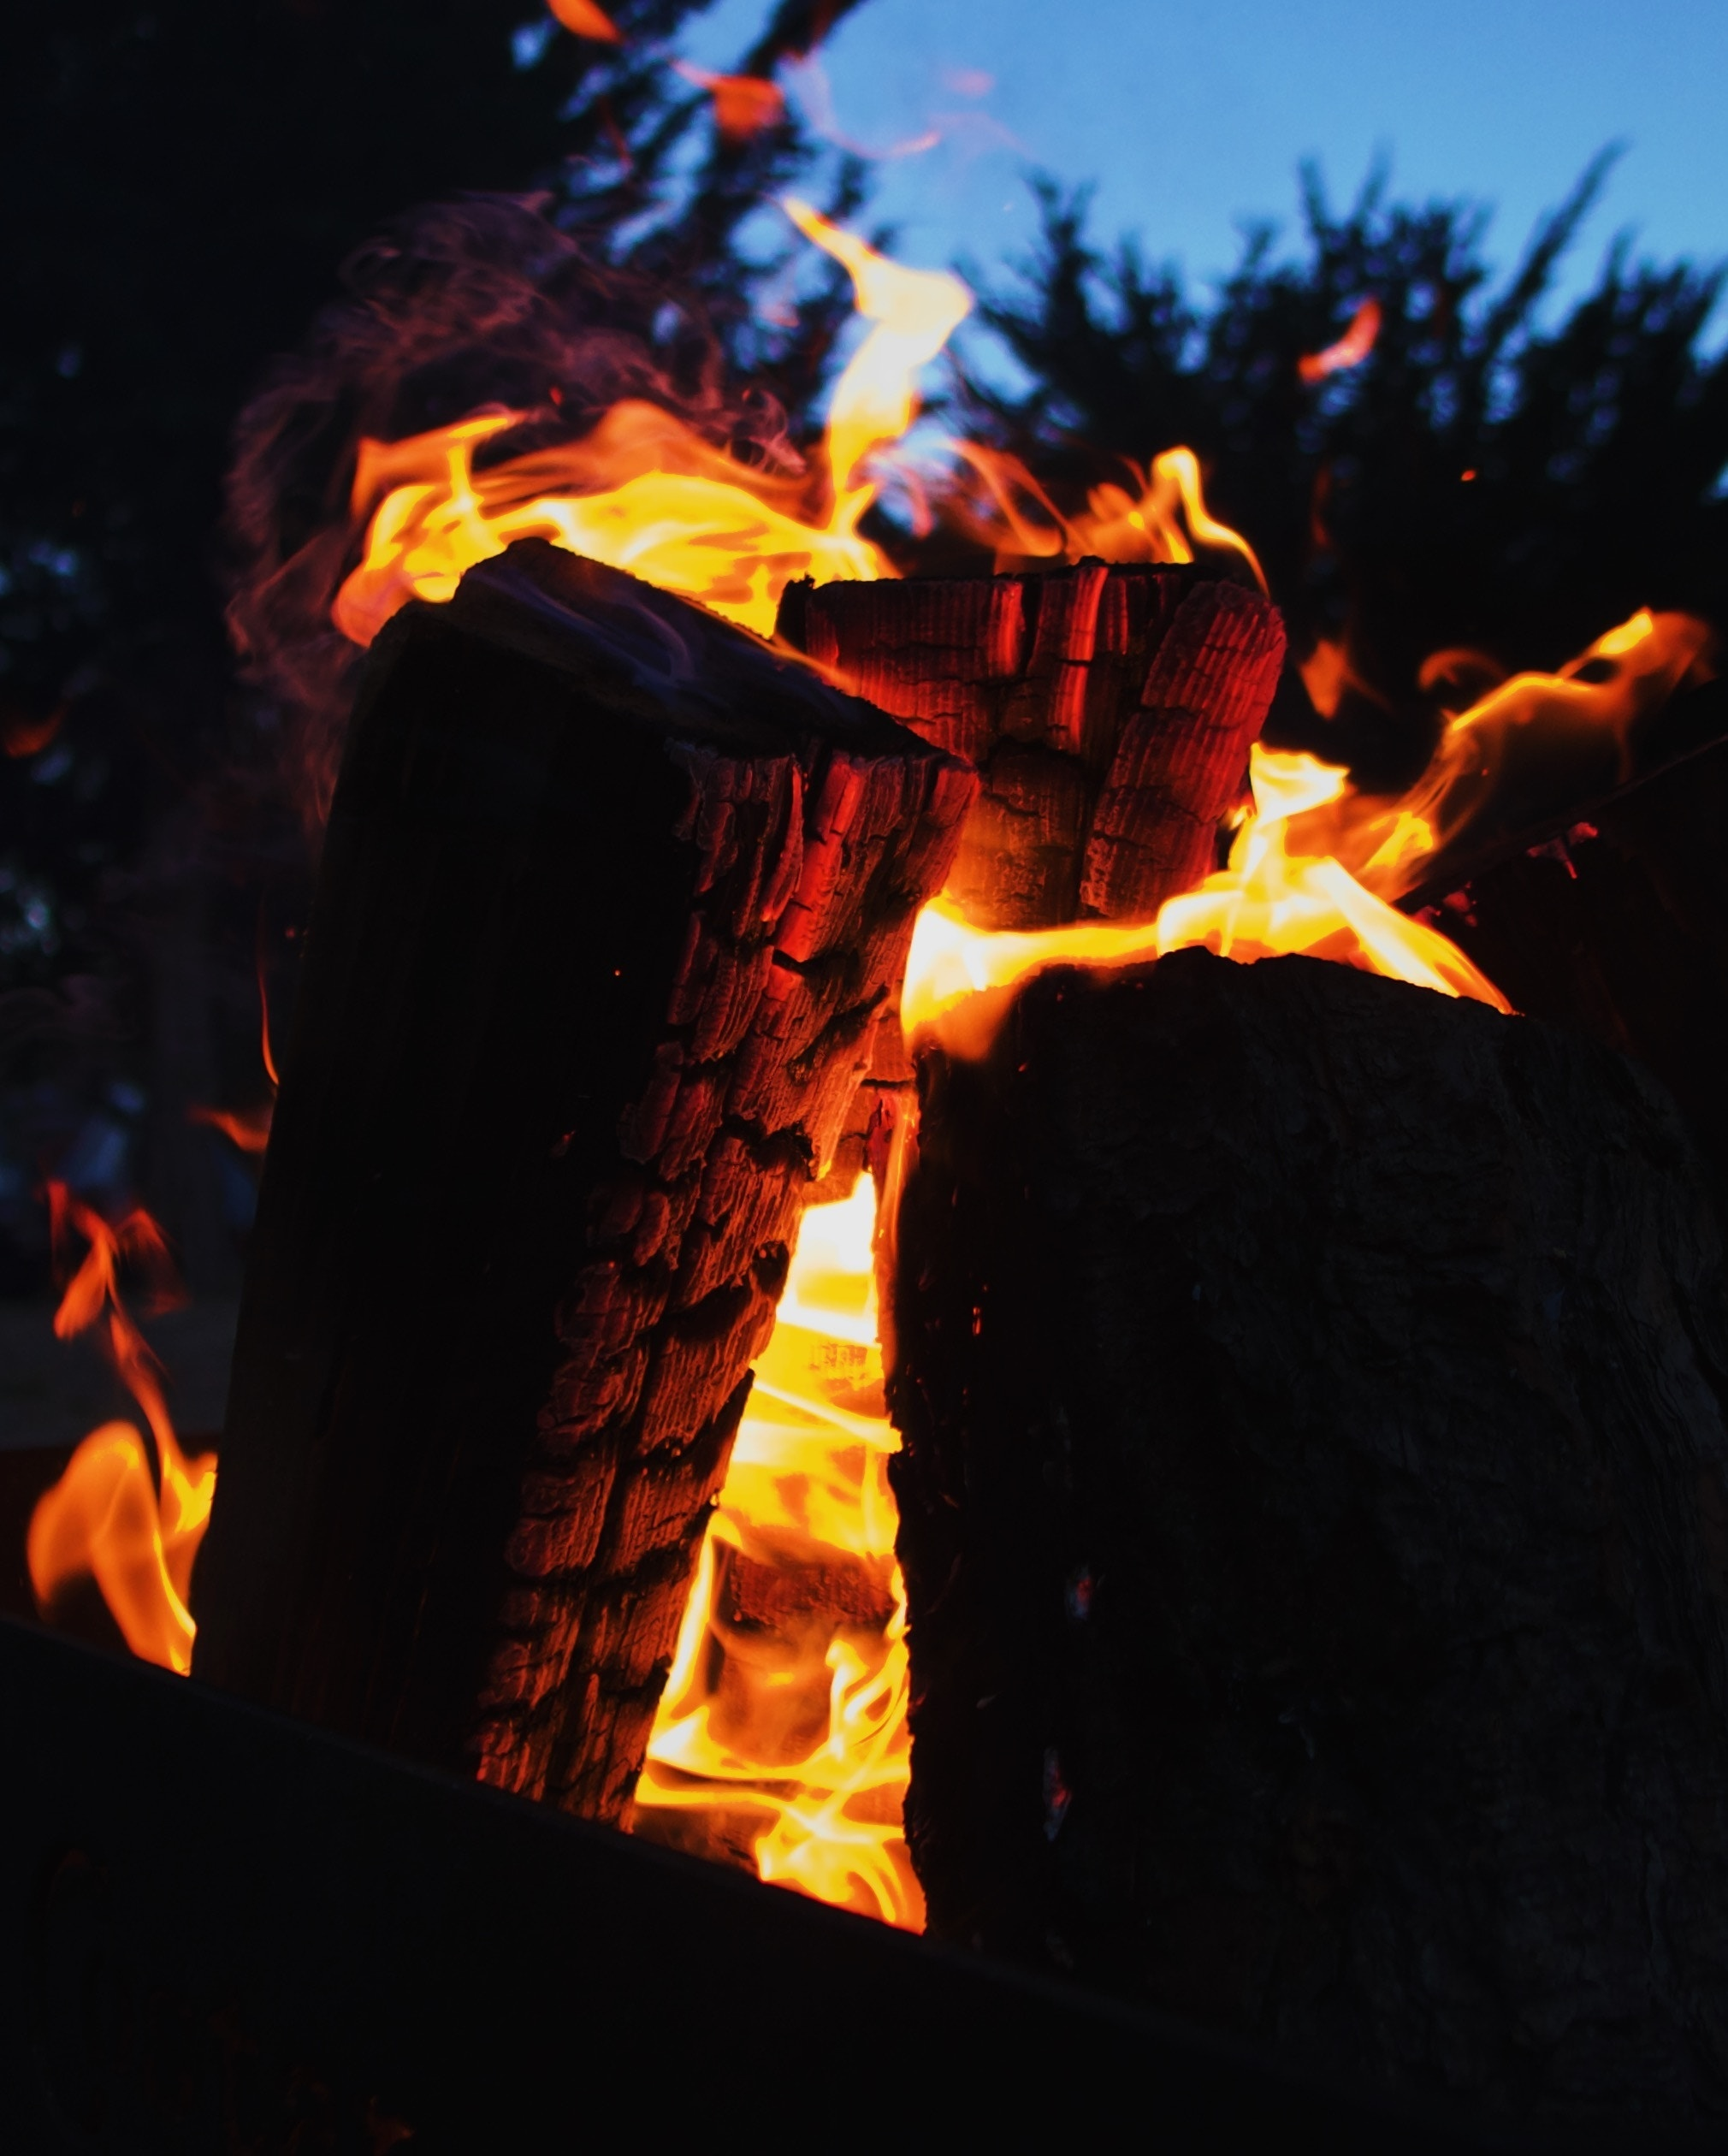fire: (545, 1118, 931, 1939), (882, 739, 1527, 1030), (11, 1174, 231, 1685)
